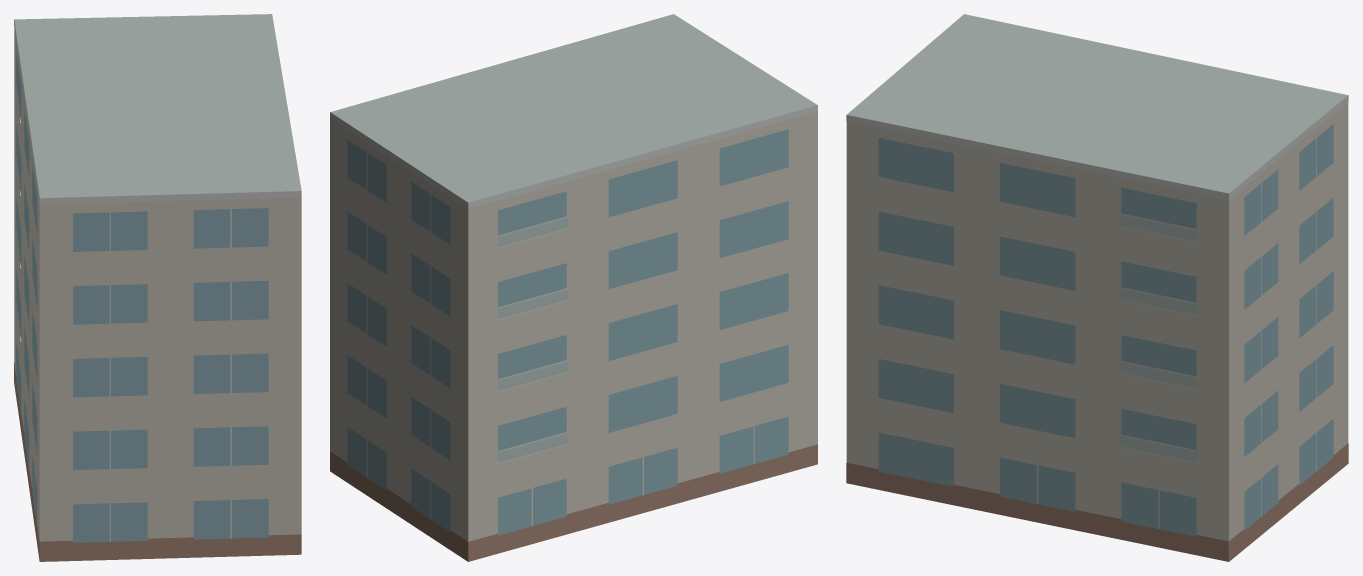
The model's file is survey-upis-32681653.glb.
The picture shows the model from 3 angles, left to right: view 1: azimuth 30°, elevation 25°; view 2: azimuth 150°, elevation 25°; view 3: azimuth 270°, elevation 25°; orthographic projection. The views are drawn at different scales.
Visible parts, largest first — view 1: survey-upis-32681653.tmp; view 2: survey-upis-32681653.tmp; view 3: survey-upis-32681653.tmp.
Boxes of the visible parts, <box> form: survey-upis-32681653.tmp: <box>14,14,301,561</box>; survey-upis-32681653.tmp: <box>330,14,817,561</box>; survey-upis-32681653.tmp: <box>846,14,1348,561</box>.
Bounding box in the file's own units: 14.53 × 13.9 × 17.17.
